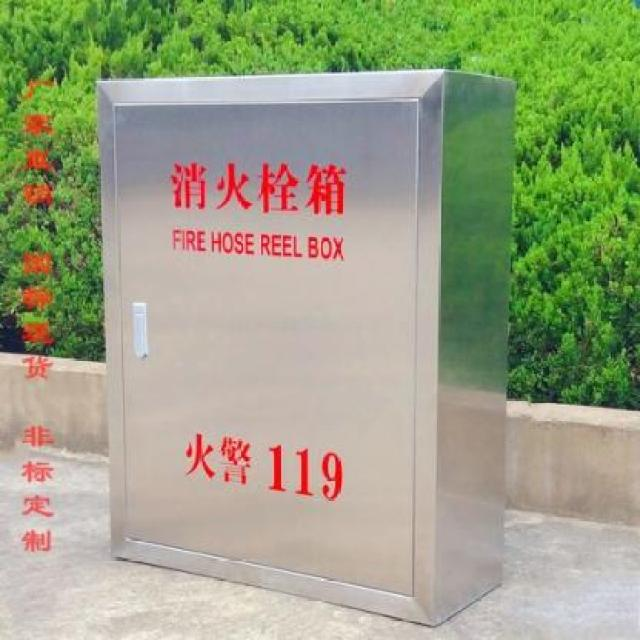firehydrant: (90, 63, 522, 633)
